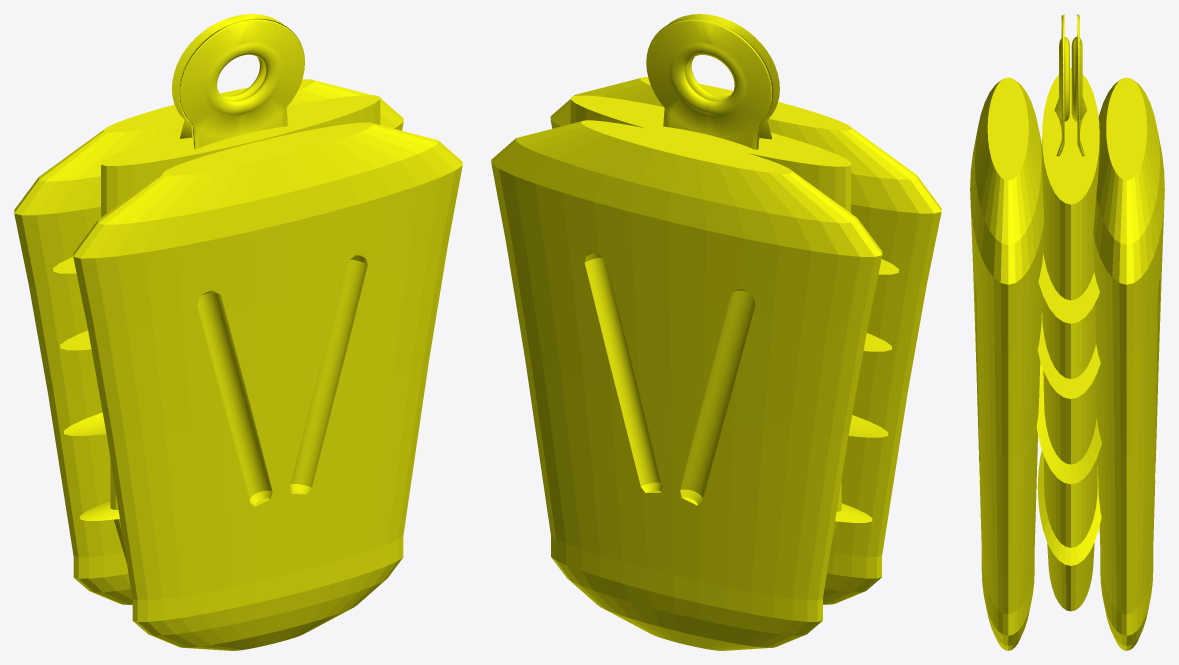
The model's file is 3D-Dental-Silicone-Mouth-Gag-Model.fbx.
3 views of the same model, side by side, from view 1: azimuth 30°, elevation 25°; view 2: azimuth 150°, elevation 25°; view 3: azimuth 270°, elevation 25° (orthographic).
Visible parts, largest first — view 1: Cylinder.001; view 2: Cylinder.001; view 3: Cylinder.001.
Part boxes in pixels (box(x1,y1,x2,y2)): Cylinder.001: box(14, 14, 462, 650); Cylinder.001: box(491, 14, 941, 650); Cylinder.001: box(970, 14, 1164, 650).
Bounding box in the file's own units: 288 × 423 × 124.
